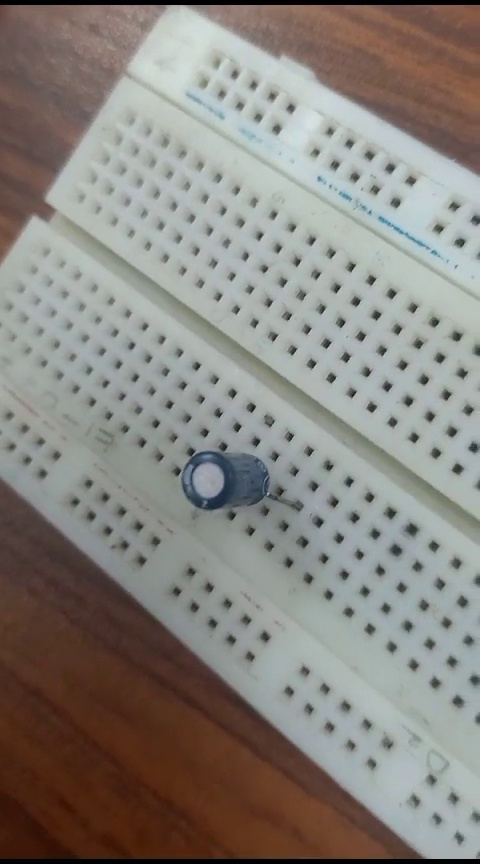capacitor: (168, 437, 304, 523)
